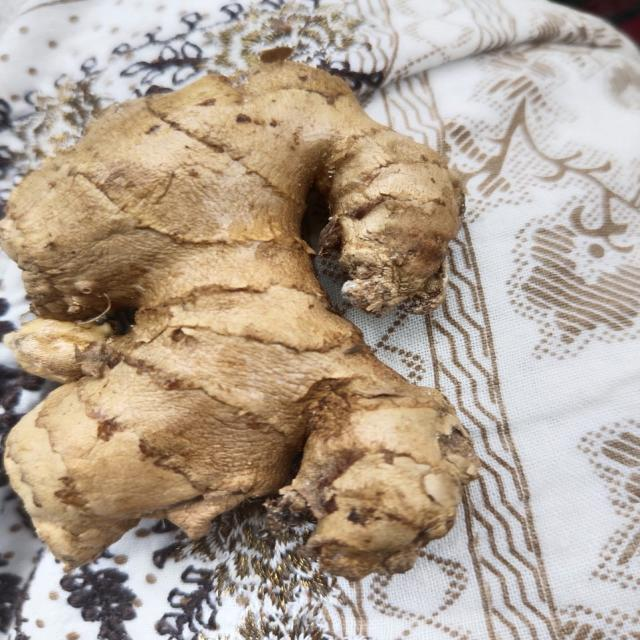ginger: (31, 79, 494, 554)
